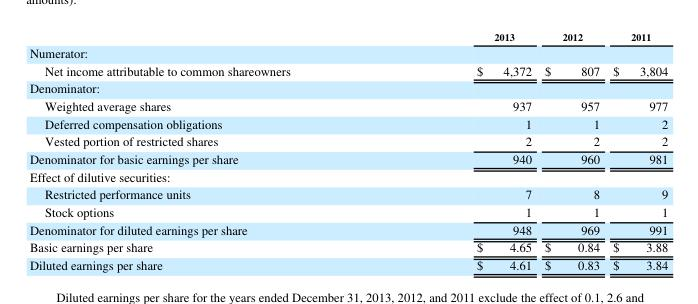table: (28, 29, 667, 272)
table column: (28, 29, 382, 272), (382, 29, 537, 272), (537, 29, 605, 272), (605, 29, 667, 272)
table column header: (28, 29, 667, 43)
table projected row header: (28, 78, 667, 96), (28, 166, 667, 184), (28, 43, 667, 60)
table row: (28, 60, 667, 78), (28, 78, 667, 96), (28, 113, 667, 131), (28, 131, 667, 149), (28, 166, 667, 184), (28, 184, 667, 202), (28, 202, 667, 220), (28, 237, 667, 255), (28, 43, 667, 60), (28, 96, 667, 113), (28, 149, 667, 166), (28, 220, 667, 237), (28, 255, 667, 272), (28, 29, 667, 43)
